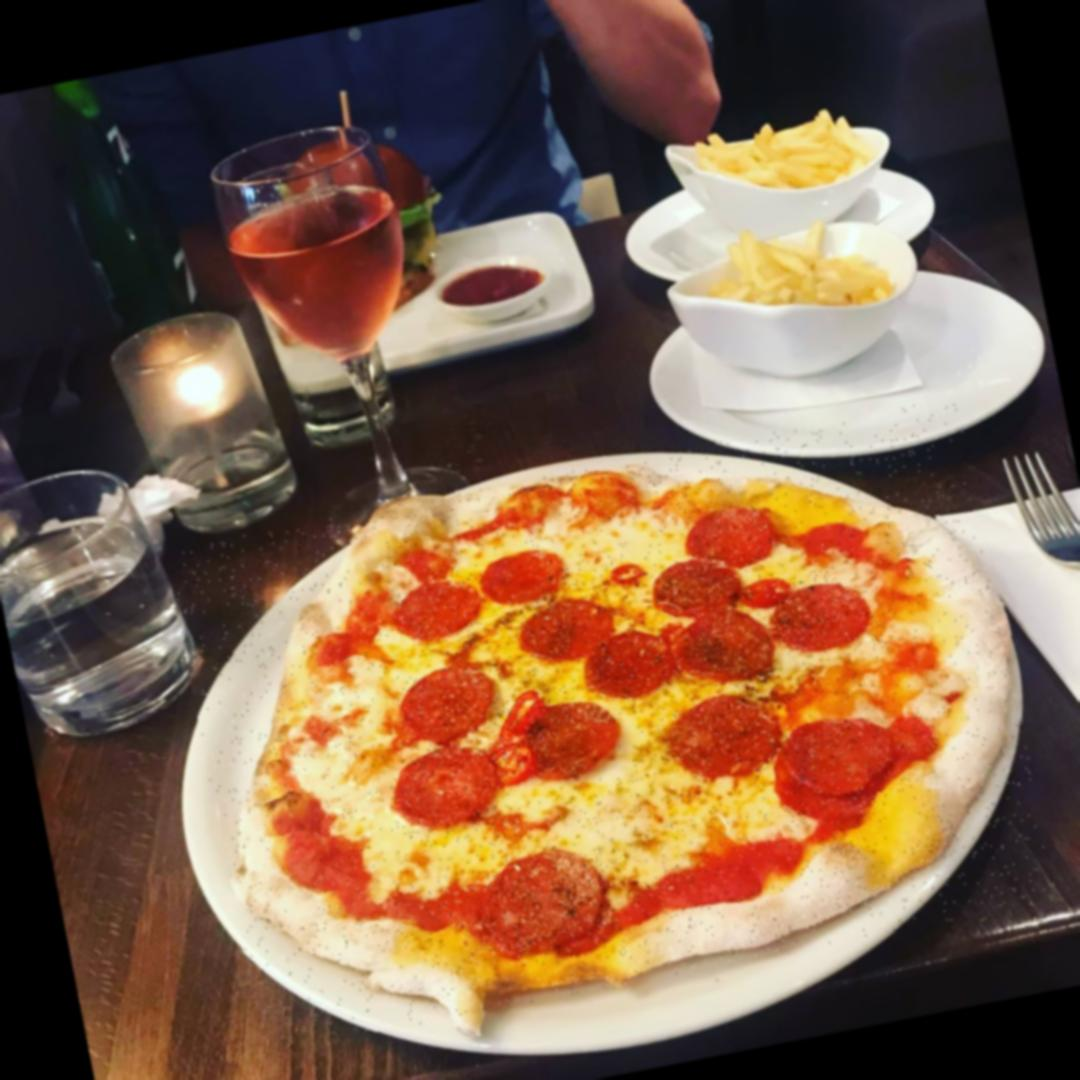Pepperoni: (470, 847, 619, 956), (750, 732, 887, 840), (655, 686, 788, 784), (384, 738, 499, 836), (392, 659, 507, 740), (766, 570, 871, 656), (784, 714, 894, 796), (520, 694, 620, 784), (518, 592, 618, 672), (679, 607, 775, 688), (684, 498, 783, 576), (653, 548, 748, 628), (481, 546, 574, 621), (584, 632, 671, 699), (396, 576, 484, 640), (886, 712, 939, 754)
Pizza: (166, 396, 1057, 1054)
Tomatoes: (479, 696, 551, 770)
